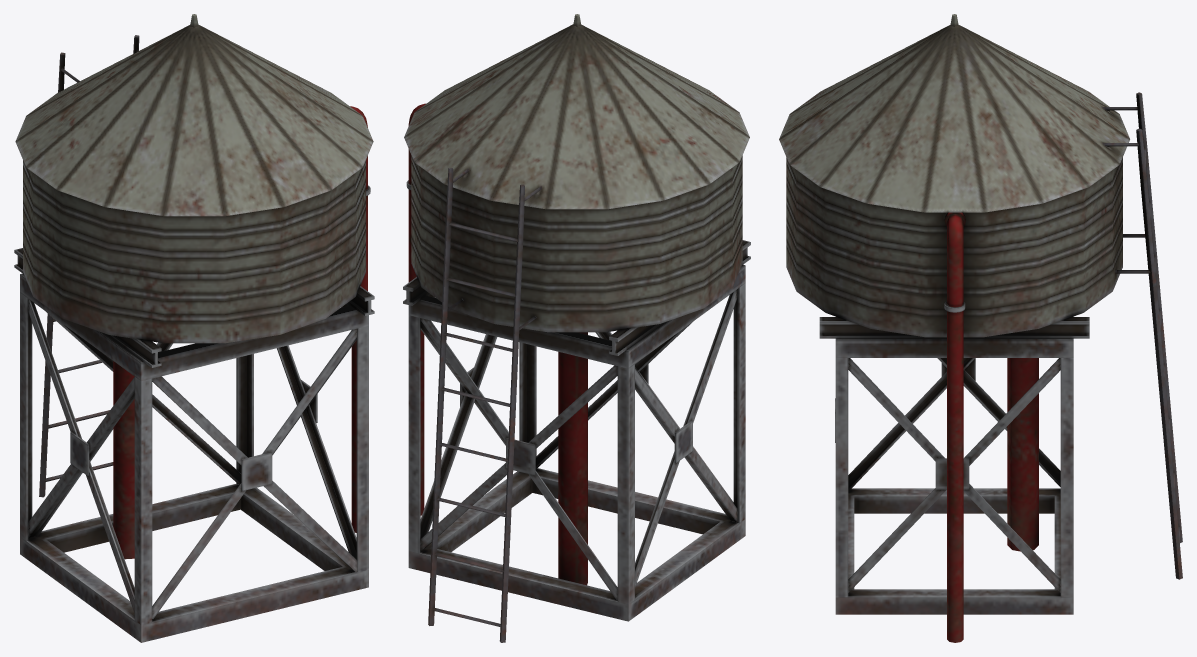
File: Water_Tower_02.fbx
3 renders of one model, left to right at view 1: azimuth 30°, elevation 25°; view 2: azimuth 150°, elevation 25°; view 3: azimuth 270°, elevation 25°, orthographic. The views are drawn at different scales.
Visible parts, largest first — view 1: Water_Tower_2; view 2: Water_Tower_2; view 3: Water_Tower_2.
Part boxes in pixels (<box>): Water_Tower_2: <box>14,14,374,642</box>; Water_Tower_2: <box>403,14,750,642</box>; Water_Tower_2: <box>779,14,1182,642</box>.
Bounding box in the file's own units: 287 × 466 × 313.
